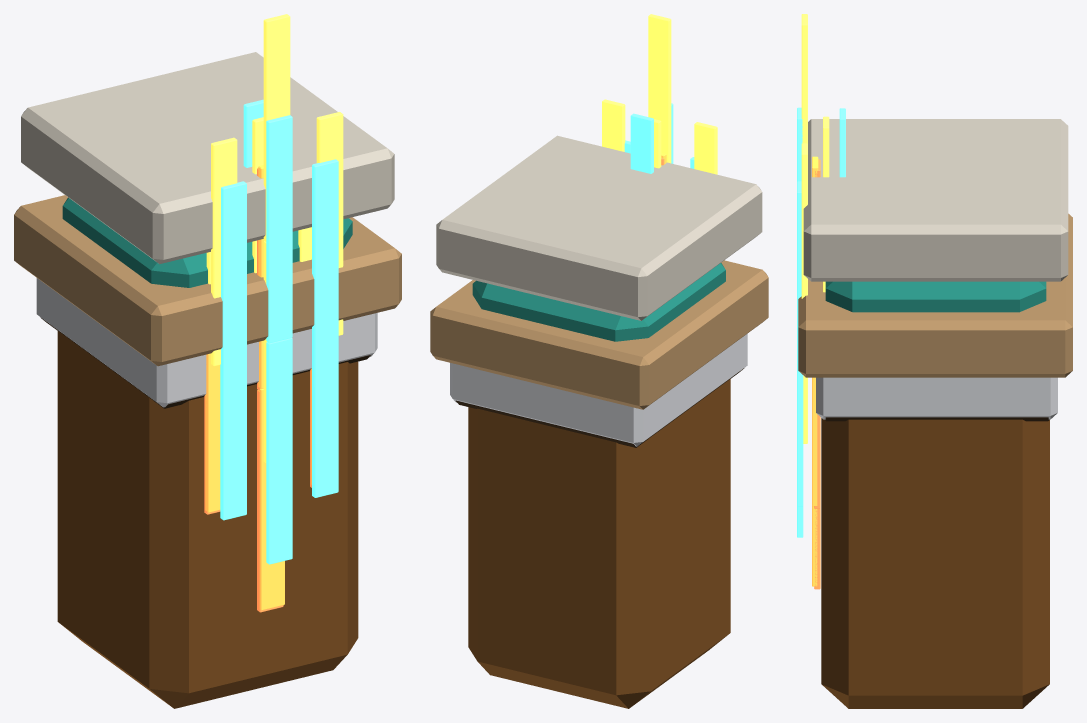
Rendered from flagship_props_030.glb.
The picture shows the model from 3 angles, left to right: view 1: azimuth 30°, elevation 25°; view 2: azimuth 150°, elevation 25°; view 3: azimuth 270°, elevation 25°; orthographic projection. The views are drawn at different scales.
Visible parts, largest first — view 1: Prop_BBIsle_Windmill_15, Prop_BBIsle_Windmill_19, Prop_BBIsle_Windmill_16, Prop_BBIsle_Windmill_18, Prop_BBIsle_Windmill_14, Prop_BBIsle_Windmill_17; view 2: Prop_BBIsle_Windmill_15, Prop_BBIsle_Windmill_19, Prop_BBIsle_Windmill_16, Prop_BBIsle_Windmill_17, Prop_BBIsle_Windmill_18; view 3: Prop_BBIsle_Windmill_15, Prop_BBIsle_Windmill_19, Prop_BBIsle_Windmill_16, Prop_BBIsle_Windmill_18, Prop_BBIsle_Windmill_17, Prop_BBIsle_Windmill_14.
Part boxes in pixels (x1=…): Prop_BBIsle_Windmill_15: x1=14, y1=115, x2=401, y2=708; Prop_BBIsle_Windmill_19: x1=21, y1=14, x2=394, y2=462; Prop_BBIsle_Windmill_16: x1=36, y1=165, x2=377, y2=610; Prop_BBIsle_Windmill_18: x1=40, y1=168, x2=370, y2=612; Prop_BBIsle_Windmill_14: x1=206, y1=117, x2=311, y2=284; Prop_BBIsle_Windmill_17: x1=243, y1=99, x2=263, y2=167; Prop_BBIsle_Windmill_15: x1=430, y1=103, x2=768, y2=708; Prop_BBIsle_Windmill_19: x1=436, y1=14, x2=762, y2=341; Prop_BBIsle_Windmill_16: x1=450, y1=152, x2=747, y2=446; Prop_BBIsle_Windmill_17: x1=630, y1=113, x2=653, y2=173; Prop_BBIsle_Windmill_18: x1=456, y1=157, x2=744, y2=447; Prop_BBIsle_Windmill_15: x1=797, y1=107, x2=1072, y2=708; Prop_BBIsle_Windmill_19: x1=801, y1=14, x2=1068, y2=443; Prop_BBIsle_Windmill_16: x1=812, y1=156, x2=1057, y2=586; Prop_BBIsle_Windmill_18: x1=814, y1=159, x2=1049, y2=589; Prop_BBIsle_Windmill_17: x1=839, y1=108, x2=845, y2=177; Prop_BBIsle_Windmill_14: x1=823, y1=116, x2=829, y2=292.
Bounding box in the file's own units: 2.61 × 6.85 × 2.62.
